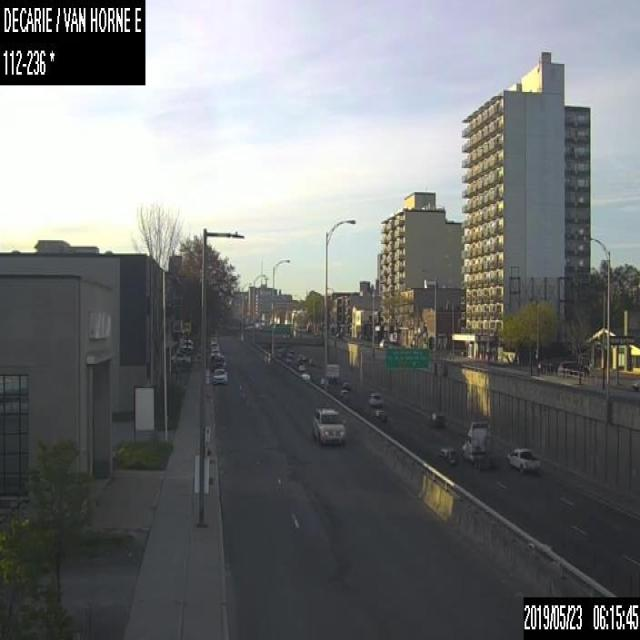vehicle: (460, 420, 498, 470), (311, 406, 344, 442), (506, 447, 540, 473), (437, 447, 456, 465), (428, 410, 445, 428), (211, 367, 226, 384), (326, 363, 339, 380), (171, 352, 189, 363), (211, 354, 225, 368), (367, 392, 380, 405), (373, 408, 385, 421), (378, 338, 388, 349), (294, 361, 304, 372), (180, 344, 193, 352), (340, 388, 349, 399), (300, 371, 310, 380), (319, 377, 328, 387), (209, 342, 218, 351), (210, 348, 220, 356), (632, 379, 639, 390), (341, 382, 349, 389), (184, 338, 193, 344), (284, 354, 290, 362), (287, 350, 294, 356)
